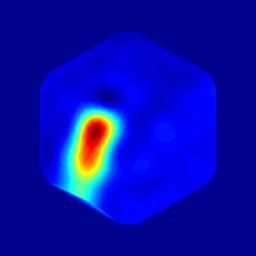ship: (94, 91, 113, 114)
wave: (87, 107, 110, 154)
